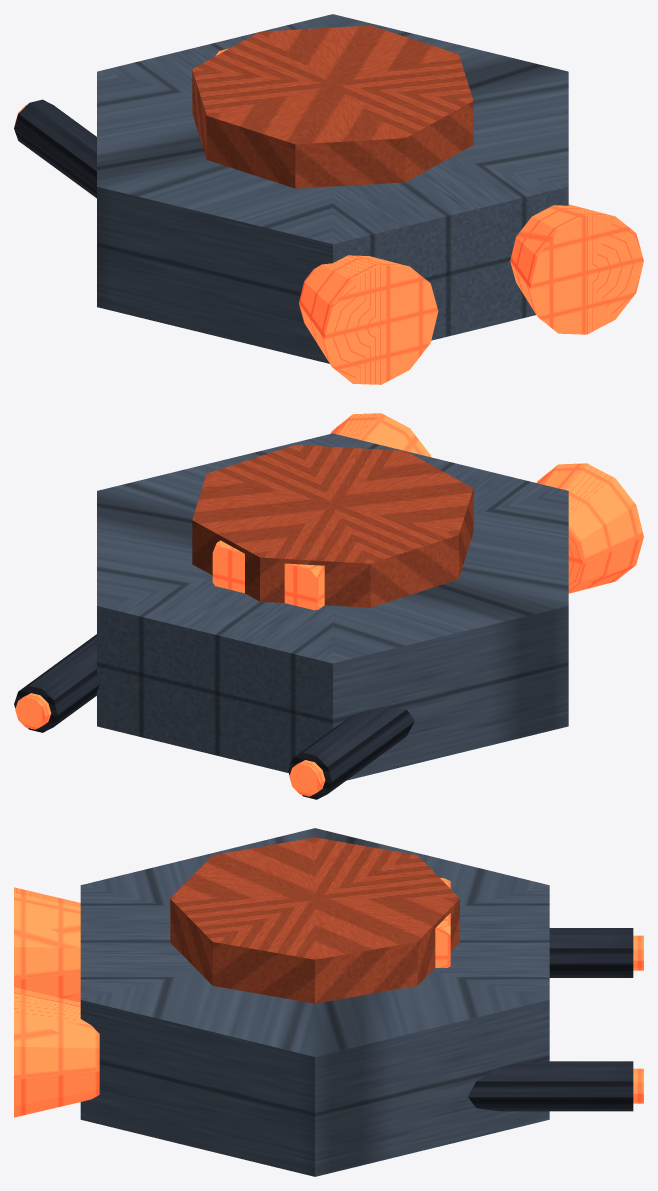
File: enemy_heavy_drone.glb
3 renders of one model, top to bottom at view 1: azimuth 30°, elevation 25°; view 2: azimuth 150°, elevation 25°; view 3: azimuth 270°, elevation 25°, orthographic.
Parts seen in each view (by area): view 1: enemy_heavy_drone; view 2: enemy_heavy_drone; view 3: enemy_heavy_drone.
Boxes of the visible parts, left/top/right/bottom form: enemy_heavy_drone: left=14, top=14, right=643, bottom=384; enemy_heavy_drone: left=14, top=413, right=643, bottom=799; enemy_heavy_drone: left=14, top=828, right=643, bottom=1176.
Bounding box in the file's own units: 4.3 × 1.44 × 5.
1 material, 1 textured.
